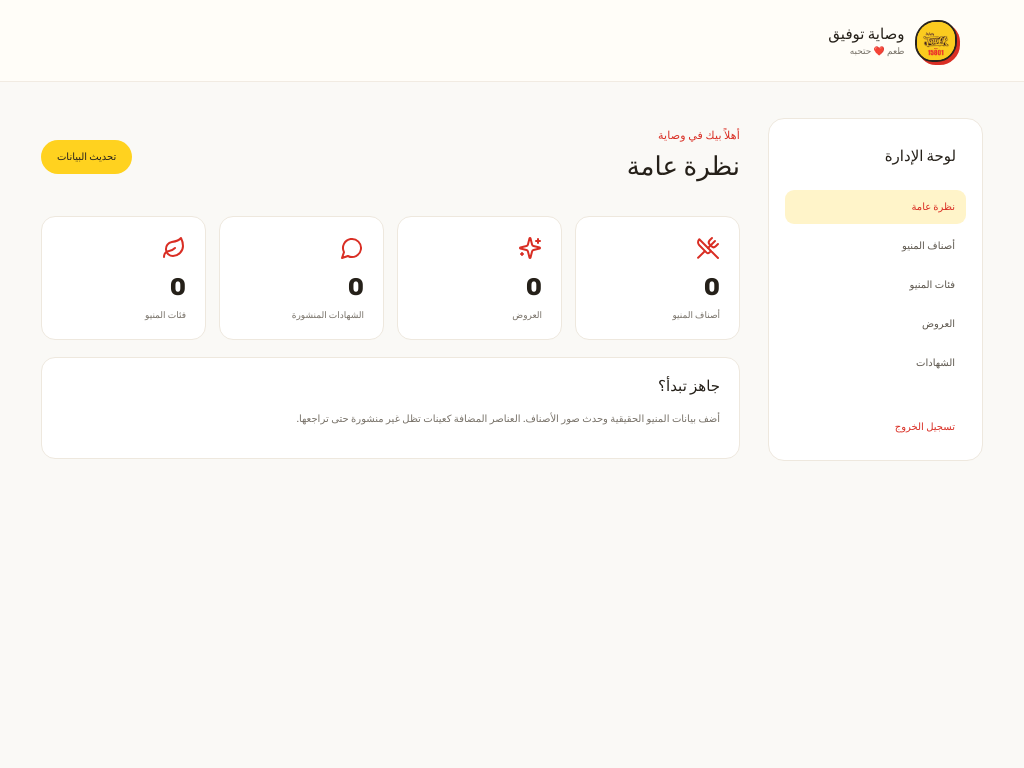
Test: admin menu category groups › shows an item under its linked category and counts it once
The width and height of the screenshot is (1024, 768).
Click the button "أصناف المنيو" at (876, 246), box 785,229 -> 966,263
(page scrolled)
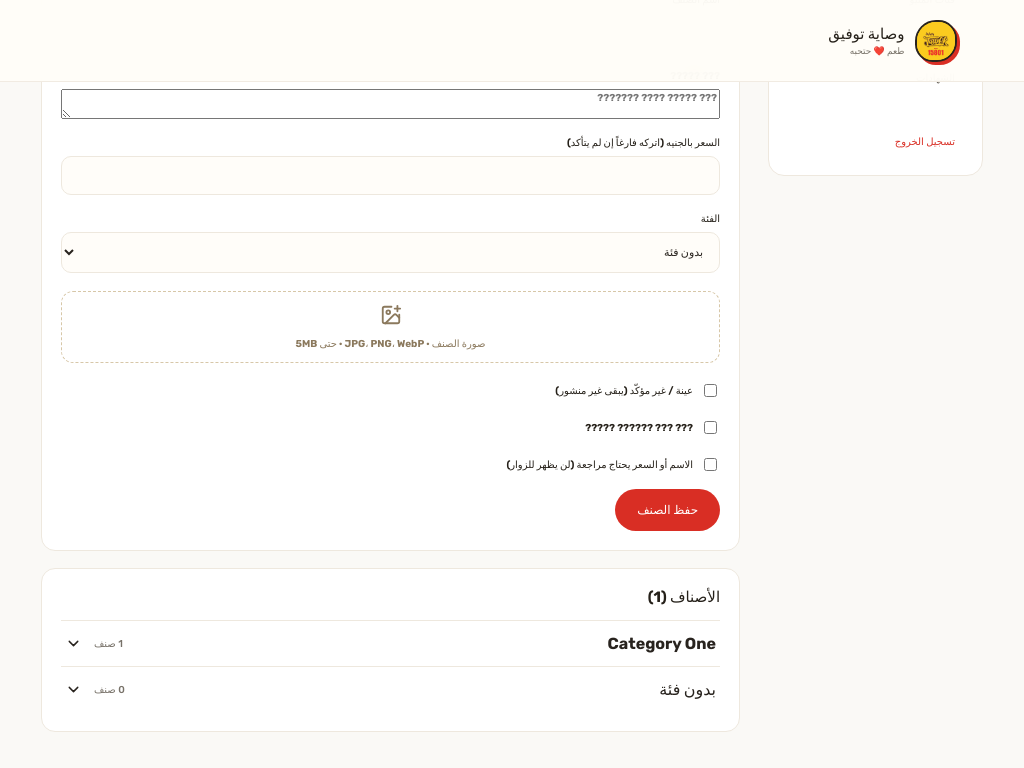
Now the button "Category One 1 صنف" is shown
Click the button "Category One 1 صنف" at (662, 644), box 61,621 -> 720,666
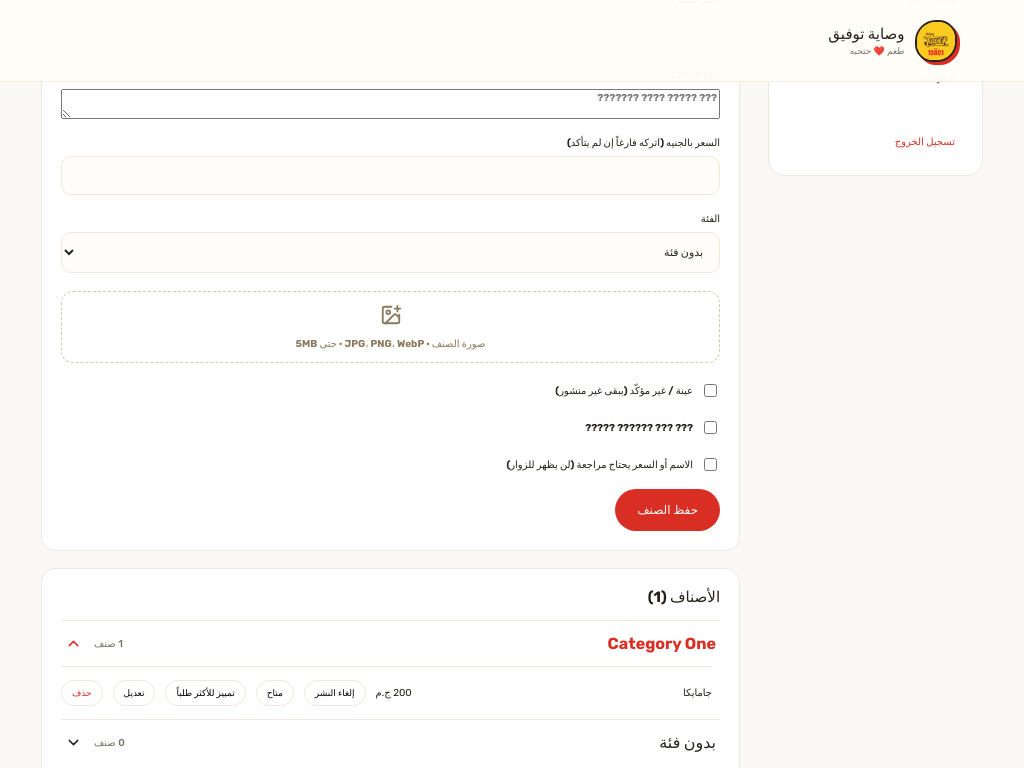
Now the text "جامايكا" is shown once, box 683,687 -> 712,699
